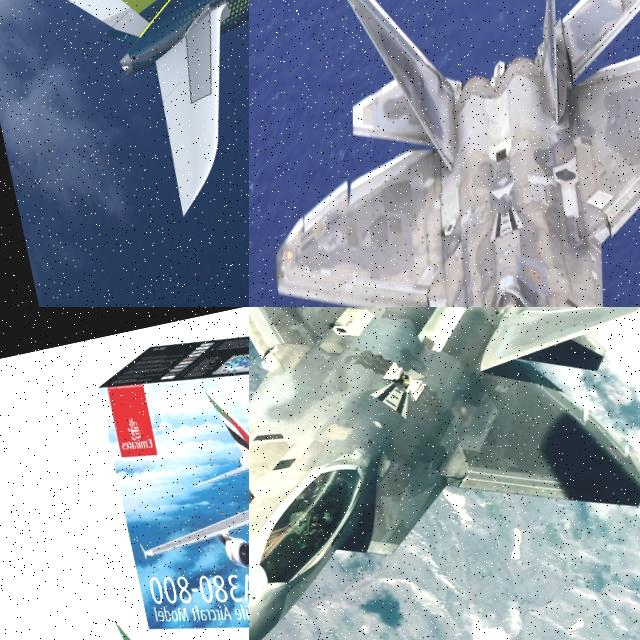A380: (0, 0, 249, 307), (108, 344, 249, 573), (14, 546, 249, 640)
F22: (249, 307, 640, 640), (249, 0, 640, 307)
